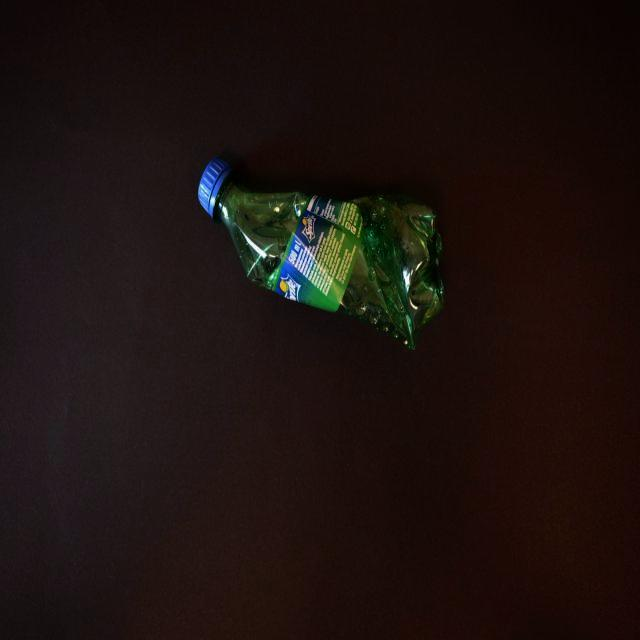bottle: (197, 156, 446, 351)
